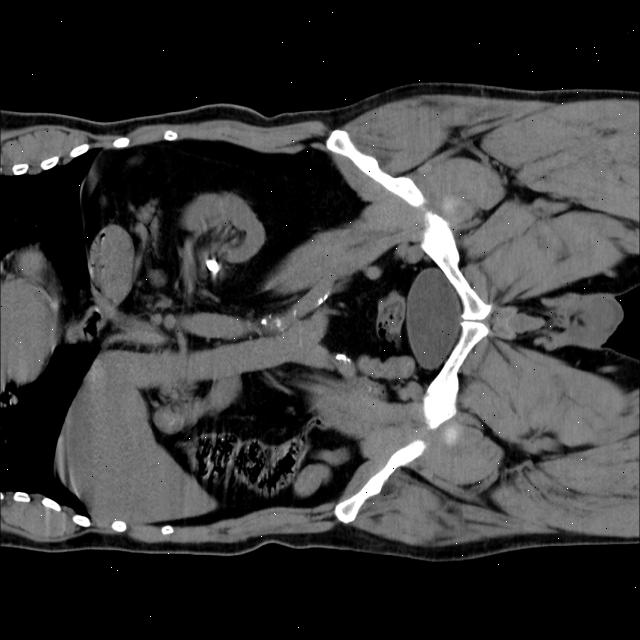kidneystone: (206, 258, 220, 272)
